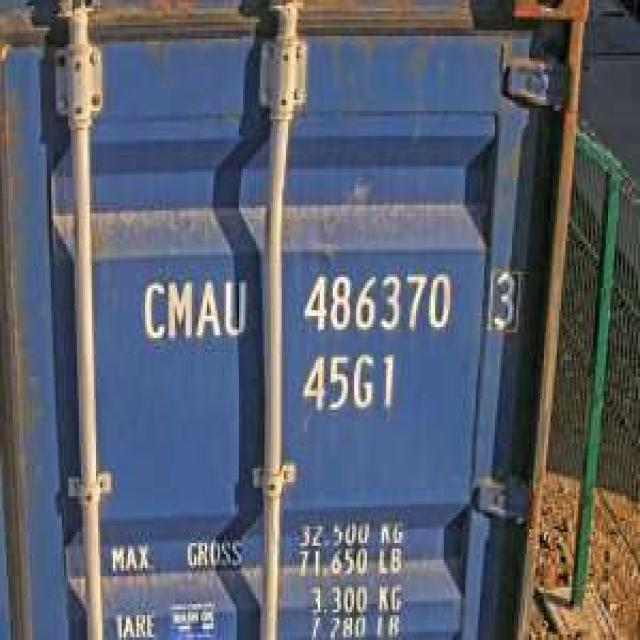dv: (484, 260, 525, 338)
owner: (136, 269, 250, 349)
serial: (299, 263, 454, 338)
size: (296, 346, 399, 418)
